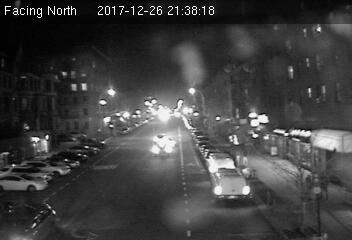car: (151, 141, 171, 156)
truck: (211, 168, 249, 199)
